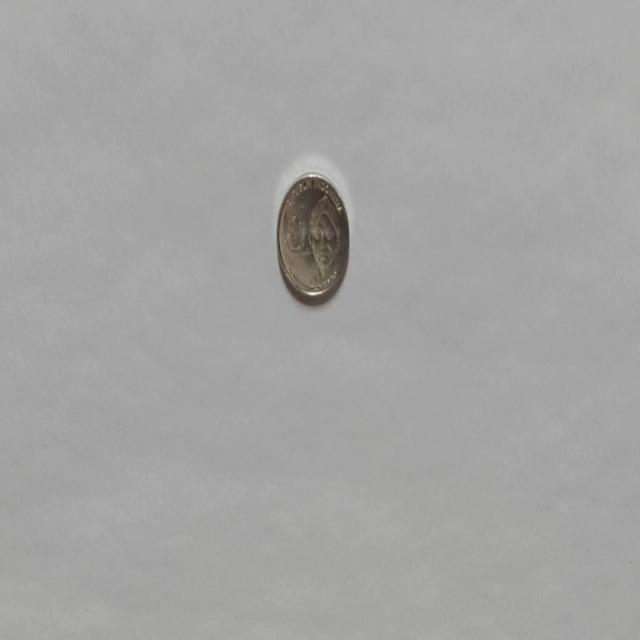dua ratus rupiah: (276, 169, 350, 304)
